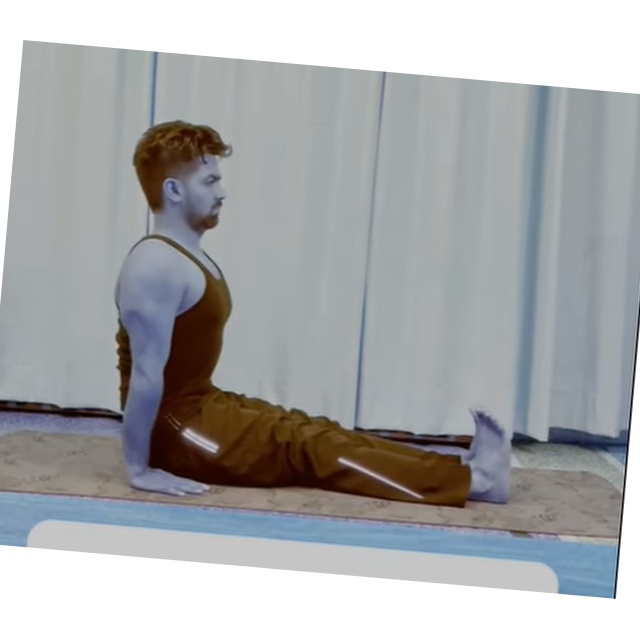Staff_Pose: (110, 118, 516, 508)
